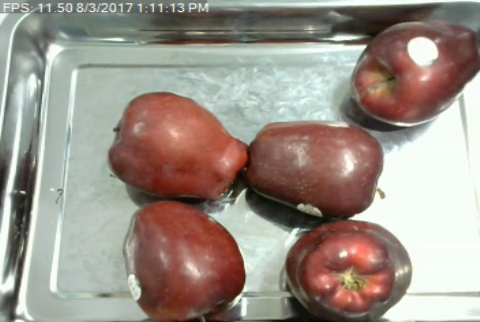Apple: (108, 87, 250, 208), (346, 14, 480, 135), (120, 198, 248, 322), (243, 117, 388, 221), (280, 214, 416, 320)
